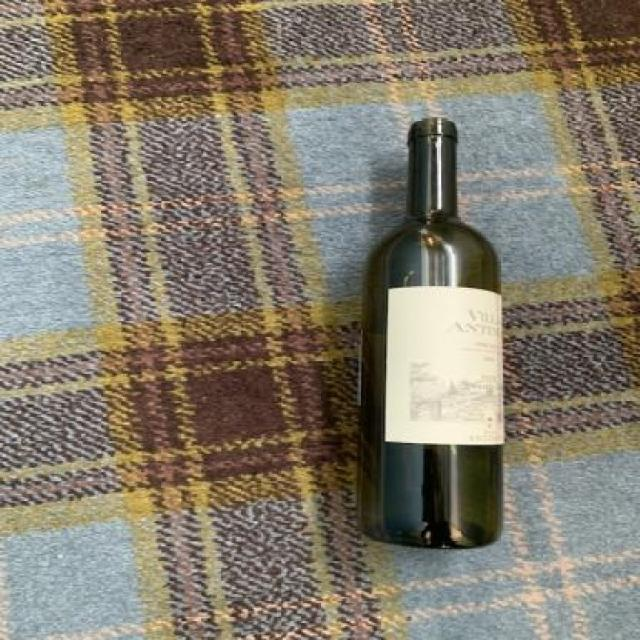trash: (350, 115, 512, 550)
